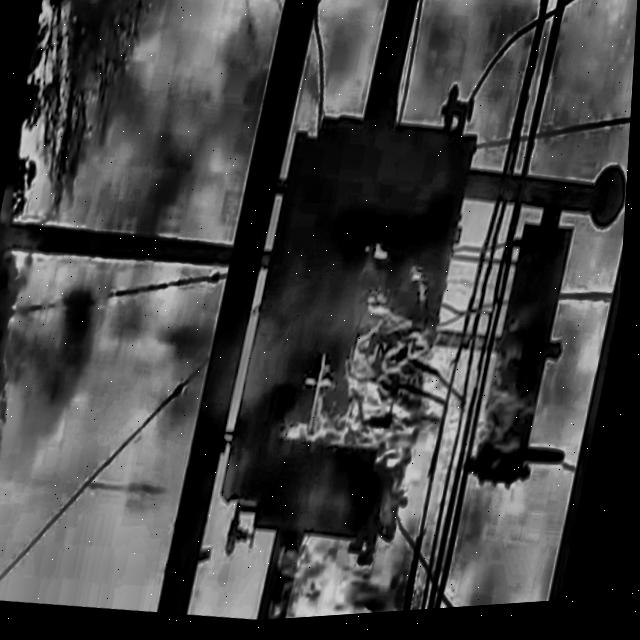Fire: (247, 203, 604, 625)
